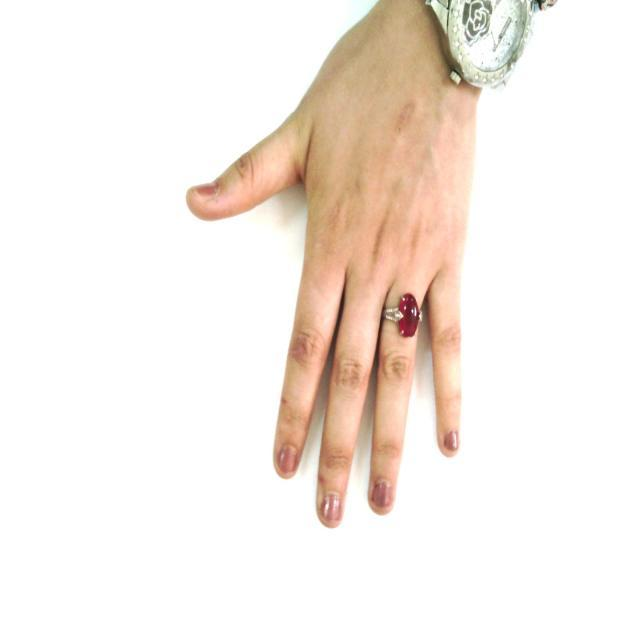Fingernail: (280, 446, 297, 476), (323, 495, 340, 523), (372, 482, 389, 508), (193, 183, 217, 198), (444, 431, 457, 450)
